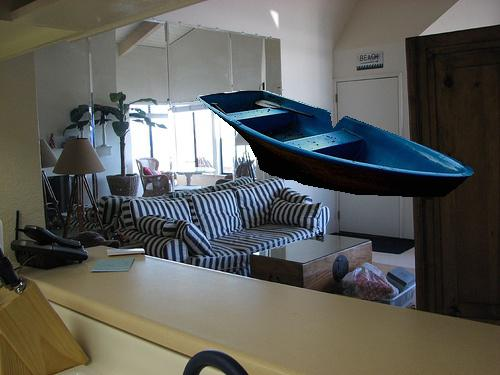tampered: (197, 91, 474, 197)
